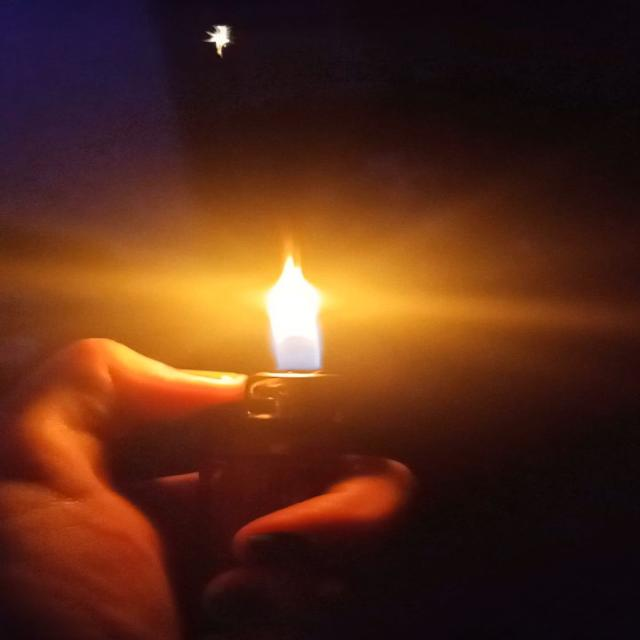fire: (265, 255, 322, 370)
